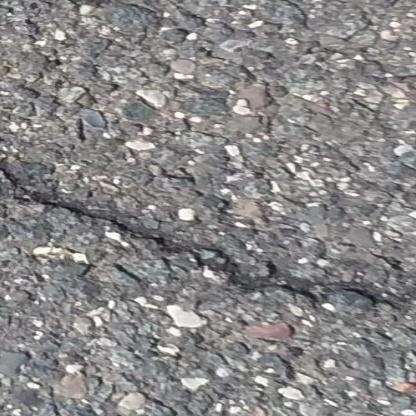Cracks: (0, 144, 416, 314), (18, 0, 116, 8)
